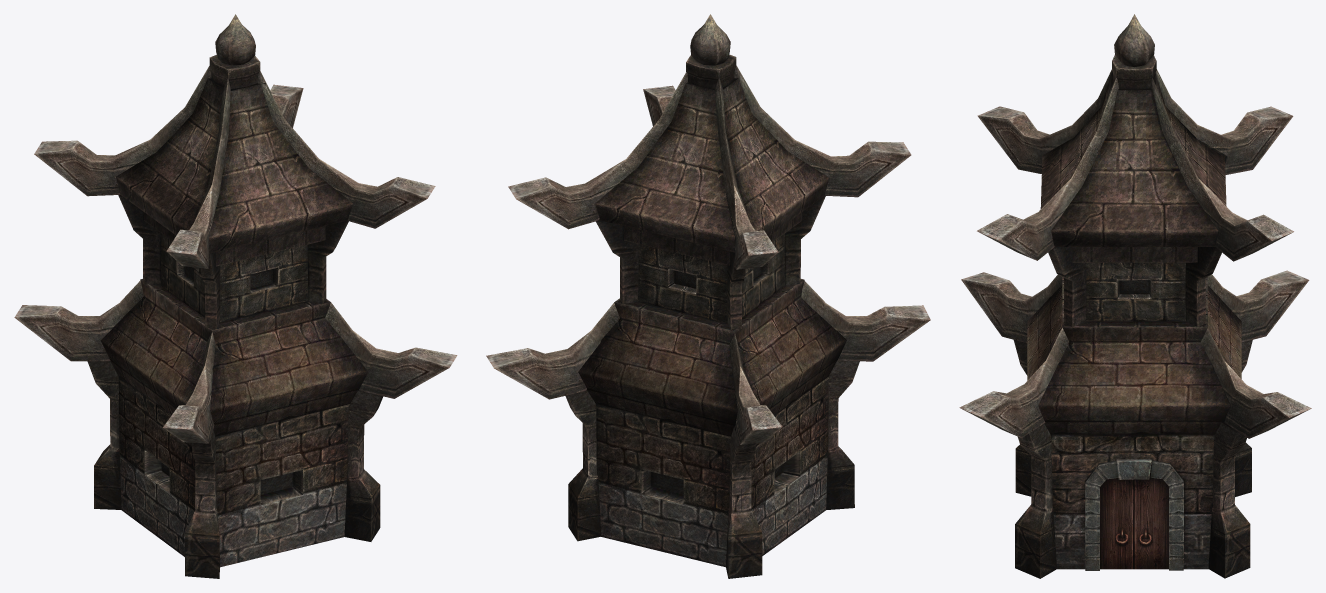
File: FurnaceA.FBX
3 renders of one model, left to right at view 1: azimuth 30°, elevation 25°; view 2: azimuth 150°, elevation 25°; view 3: azimuth 270°, elevation 25°, orthographic. The views are drawn at different scales.
Visible parts, largest first — view 1: FurnaceA_ms2, FurnaceA_ms1; view 2: FurnaceA_ms2, FurnaceA_ms1; view 3: FurnaceA_ms2, FurnaceA_ms1.
Boxes of the visible parts, bbox=[...] form: FurnaceA_ms2: bbox=[14, 65, 457, 578]; FurnaceA_ms1: bbox=[100, 14, 367, 436]; FurnaceA_ms2: bbox=[486, 65, 930, 578]; FurnaceA_ms1: bbox=[578, 14, 846, 436]; FurnaceA_ms2: bbox=[959, 69, 1311, 578]; FurnaceA_ms1: bbox=[1027, 14, 1241, 434].
Size of the model in its own units: 1368 by 2233 by 1384.
